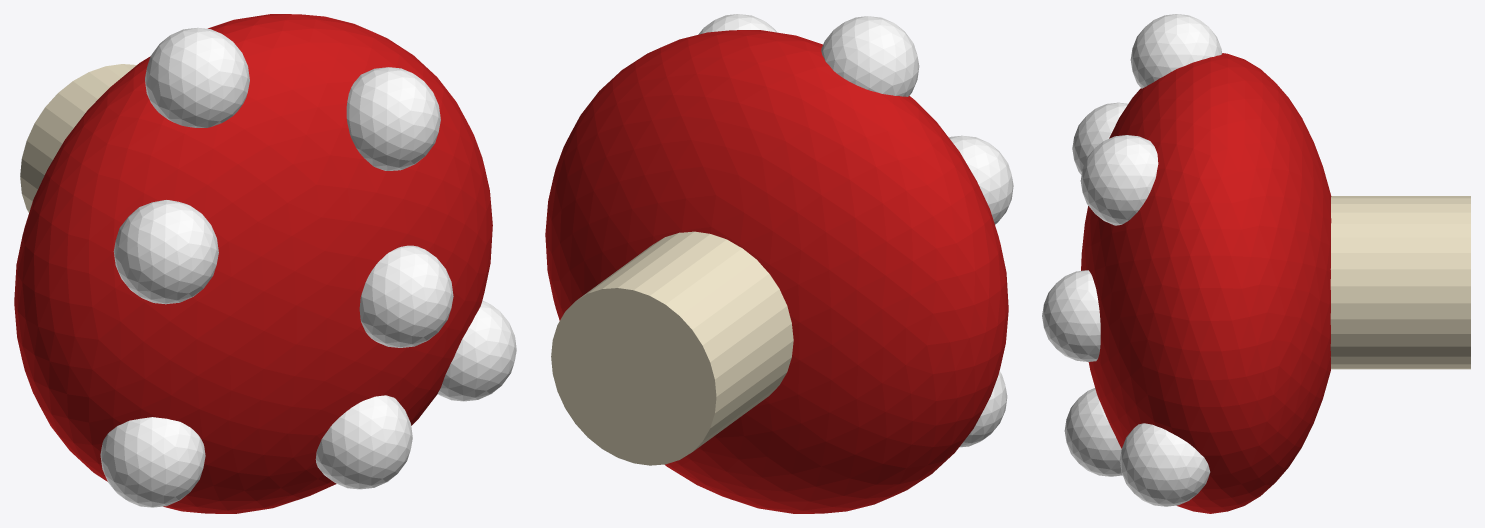
Rendered from toadstool.obj.
3 renders of one model, left to right at view 1: azimuth 30°, elevation 25°; view 2: azimuth 150°, elevation 25°; view 3: azimuth 270°, elevation 25°, orthographic. The views are drawn at different scales.
Parts seen in each view (by area): view 1: geometry_1, geometry_4, geometry_7, geometry_3, geometry_5, geometry_2, geometry_6, geometry_0, geometry_8; view 2: geometry_1, geometry_0, geometry_7, geometry_4, geometry_5, geometry_3; view 3: geometry_1, geometry_0, geometry_8, geometry_3, geometry_7, geometry_2, geometry_6, geometry_4.
Part boxes in pixels (<box>): geometry_1: <box>14,14,492,513</box>; geometry_4: <box>113,200,218,304</box>; geometry_7: <box>145,27,249,127</box>; geometry_3: <box>346,67,440,170</box>; geometry_5: <box>100,417,205,507</box>; geometry_2: <box>359,245,453,347</box>; geometry_6: <box>315,395,412,489</box>; geometry_0: <box>20,64,136,212</box>; geometry_8: <box>437,300,516,401</box>; geometry_1: <box>545,30,1008,513</box>; geometry_0: <box>551,231,793,465</box>; geometry_7: <box>821,16,919,96</box>; geometry_4: <box>949,135,1013,224</box>; geometry_5: <box>959,371,1007,447</box>; geometry_3: <box>698,14,776,34</box>; geometry_1: <box>1081,53,1331,513</box>; geometry_0: <box>1330,196,1470,369</box>; geometry_8: <box>1120,423,1210,506</box>; geometry_3: <box>1080,135,1158,225</box>; geometry_7: <box>1130,14,1222,88</box>; geometry_2: <box>1042,270,1100,361</box>; geometry_6: <box>1064,388,1122,476</box>; geometry_4: <box>1072,102,1127,174</box>.
Bounding box in the file's own units: 32.22 × 33.72 × 29.66.
